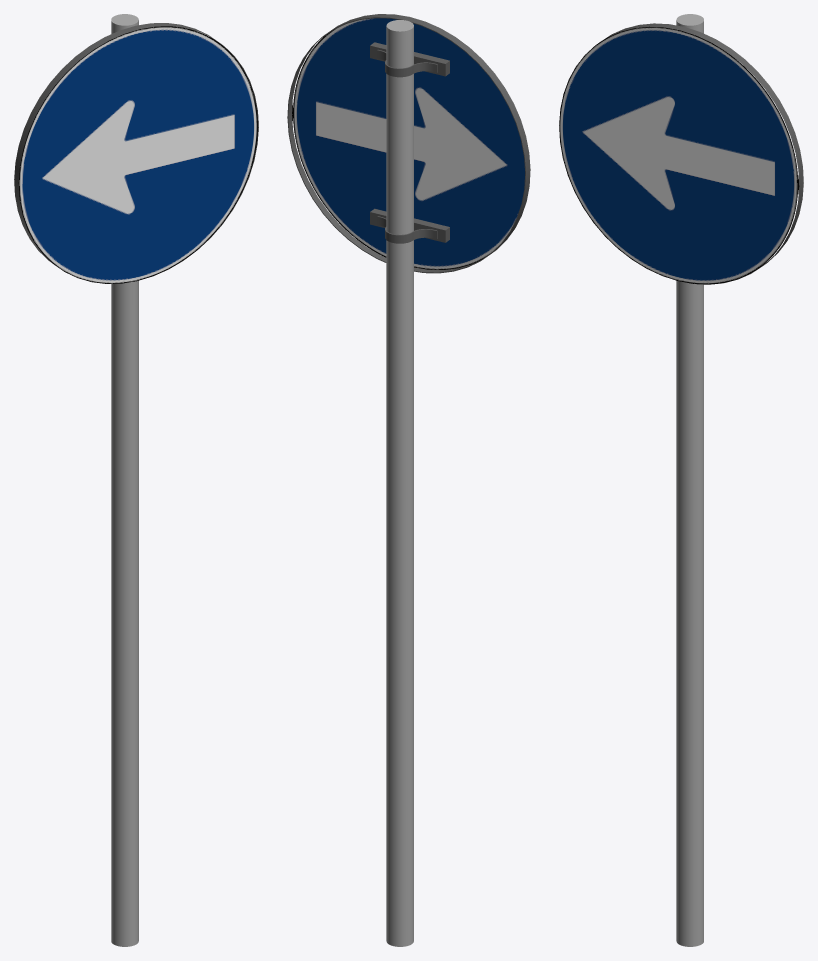
File: T_left.dae
3 renders of one model, left to right at view 1: azimuth 30°, elevation 25°; view 2: azimuth 150°, elevation 25°; view 3: azimuth 330°, elevation 25°, orthographic.
Parts seen in each view (by area): view 1: Sign.212, Pole.002; view 2: Sign.212, Pole.002; view 3: Sign.212, Pole.002.
Part boxes in pixels (box(x1,y1,x2,y2)): Sign.212: box(14, 23, 258, 283); Pole.002: box(111, 14, 138, 946); Sign.212: box(287, 14, 530, 273); Pole.002: box(386, 20, 413, 946); Sign.212: box(559, 23, 803, 284); Pole.002: box(676, 14, 703, 946).
Size of the model in its own units: 0.6 by 0.0869 by 2.2.
Materials: 3 (1 with a texture image).
